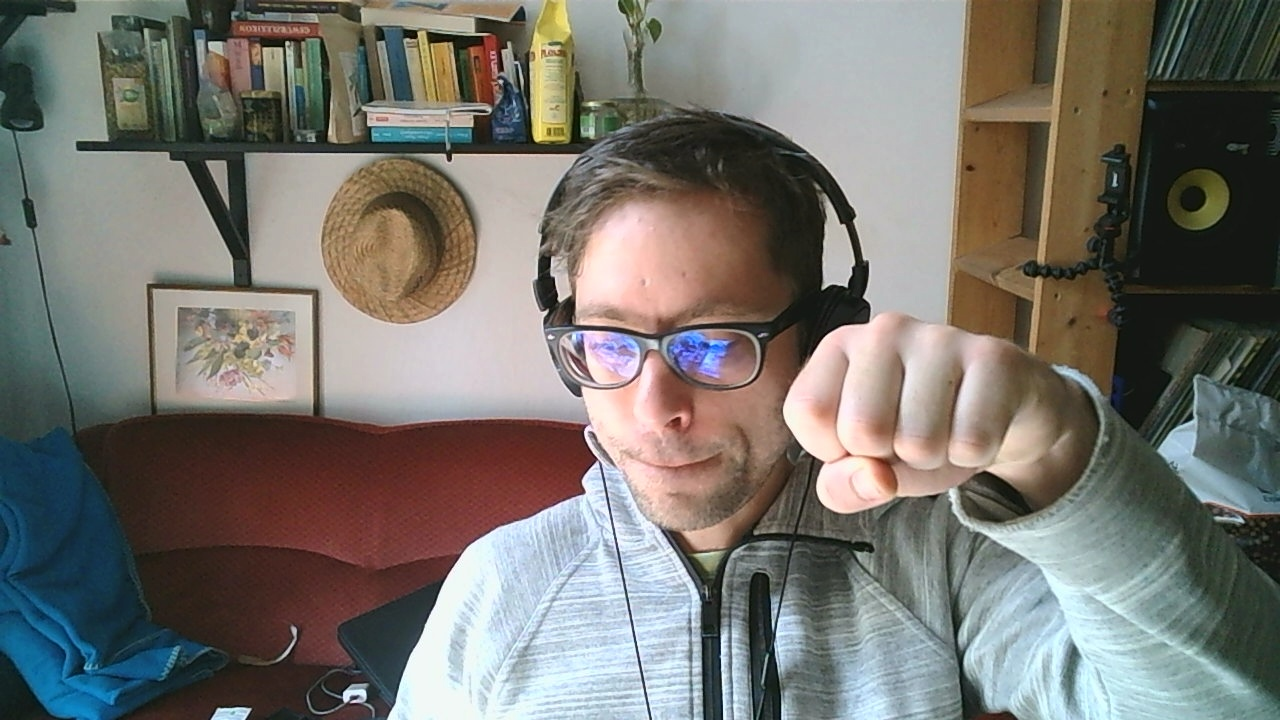yes: (779, 311, 1085, 518)
